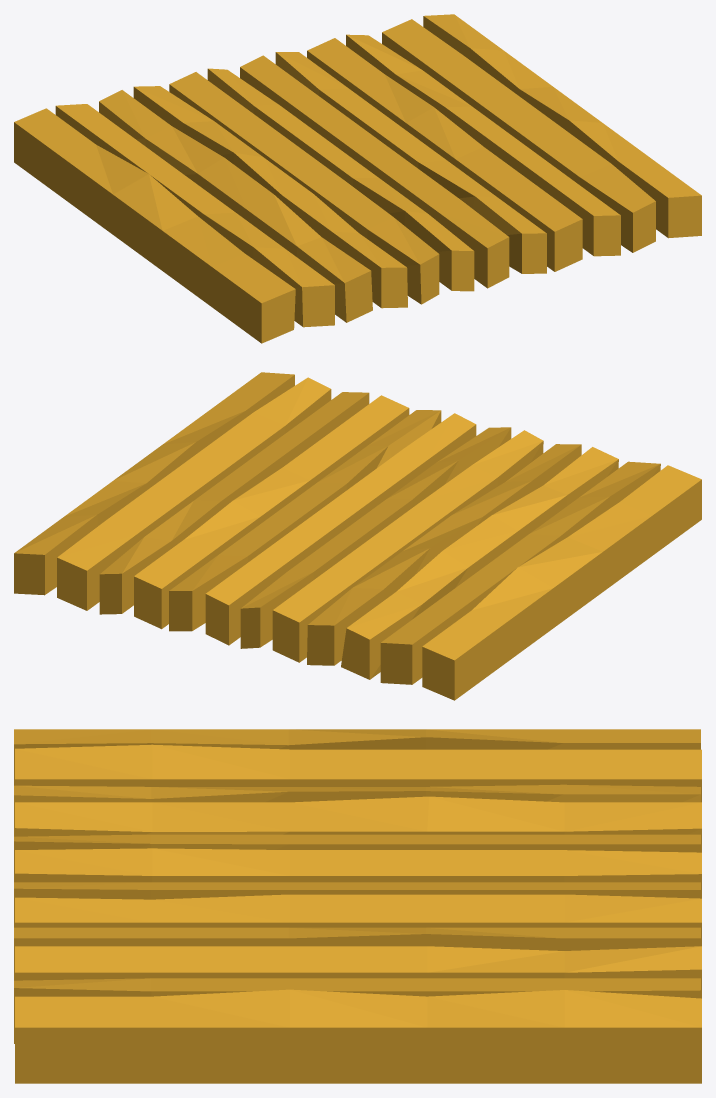
Rendered from wheat-patch.lod0.glb.
3 views of the same model, one above another, from view 1: azimuth 30°, elevation 25°; view 2: azimuth 150°, elevation 25°; view 3: azimuth 270°, elevation 25° (orthographic). The views are drawn at different scales.
Visible parts, largest first — view 1: Wheat_0; view 2: Wheat_0; view 3: Wheat_0.
Part boxes in pixels (bbox=[...]): Wheat_0: bbox=[14, 14, 701, 343]; Wheat_0: bbox=[14, 372, 701, 700]; Wheat_0: bbox=[14, 729, 701, 1083].
Size of the model in its own units: 9 by 1.02 by 8.77.
